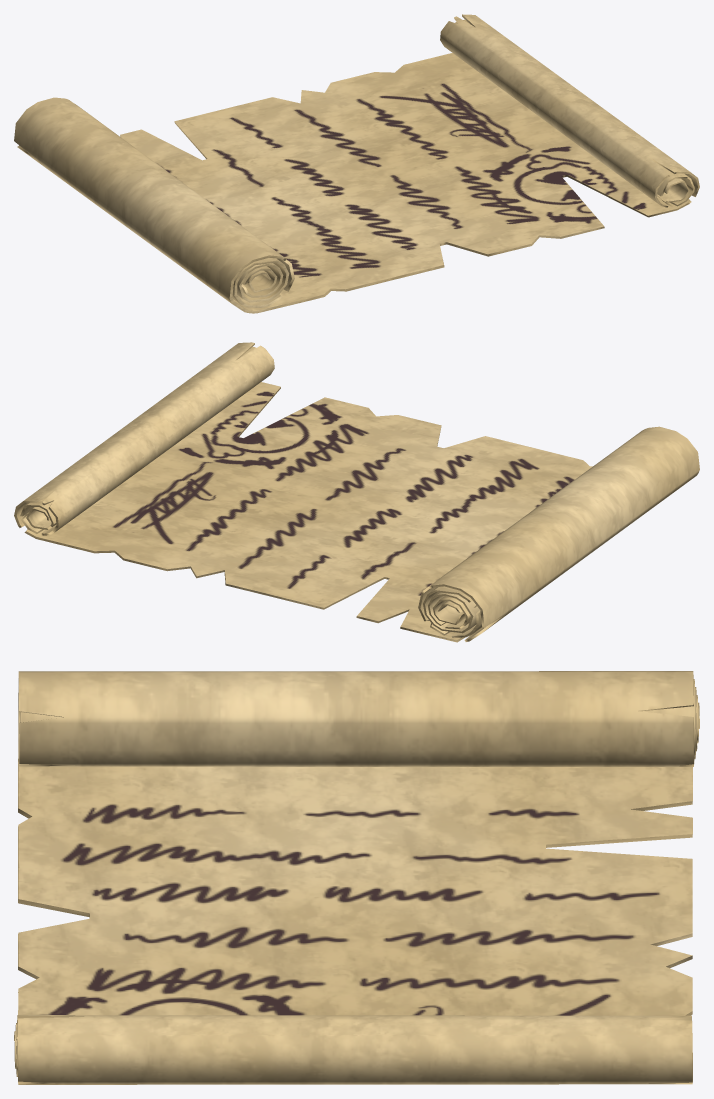
Rendered from ITM_UTILITY_REAPERS CONTRACT.fbx.
3 views of the same model, one above another, from view 1: azimuth 30°, elevation 25°; view 2: azimuth 150°, elevation 25°; view 3: azimuth 270°, elevation 25° (orthographic). The views are drawn at different scales.
Parts seen in each view (by area): view 1: itm_utility_reaper_contact; view 2: itm_utility_reaper_contact; view 3: itm_utility_reaper_contact.
Part boxes in pixels (bbox=[...]): itm_utility_reaper_contact: bbox=[14, 14, 699, 313]; itm_utility_reaper_contact: bbox=[14, 342, 699, 642]; itm_utility_reaper_contact: bbox=[14, 671, 699, 1084].
Size of the model in its own units: 85.22 by 9.56 by 68.72.
